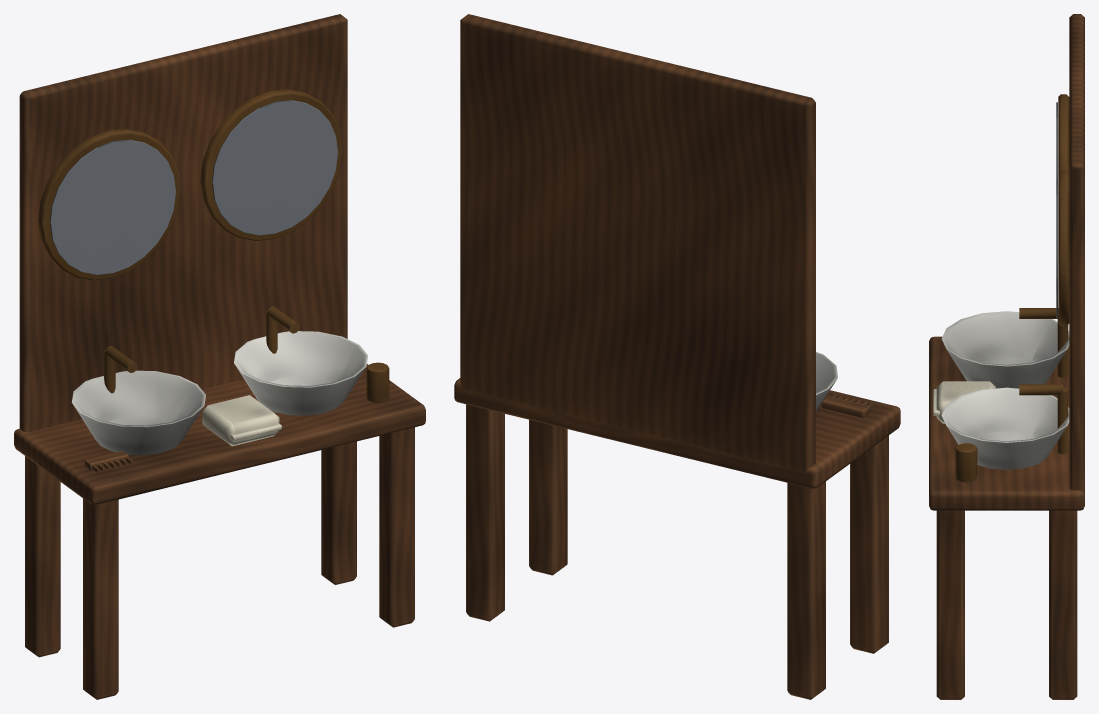
The model's file is Furn_Dress_Vanity.fbx.
The picture shows the model from 3 angles, left to right: view 1: azimuth 30°, elevation 25°; view 2: azimuth 150°, elevation 25°; view 3: azimuth 270°, elevation 25°; orthographic projection. The views are drawn at different scales.
Parts seen in each view (by area): view 1: Furn_Dress_Vanity; view 2: Furn_Dress_Vanity; view 3: Furn_Dress_Vanity.
Part boxes in pixels (left/top/right/bottom): Furn_Dress_Vanity: left=14, top=14, right=425, bottom=699; Furn_Dress_Vanity: left=454, top=14, right=900, bottom=699; Furn_Dress_Vanity: left=929, top=14, right=1084, bottom=699.
Size of the model in its own units: 1.2 by 1.9 by 0.5.
Materials: 4 (4 with a texture image).
